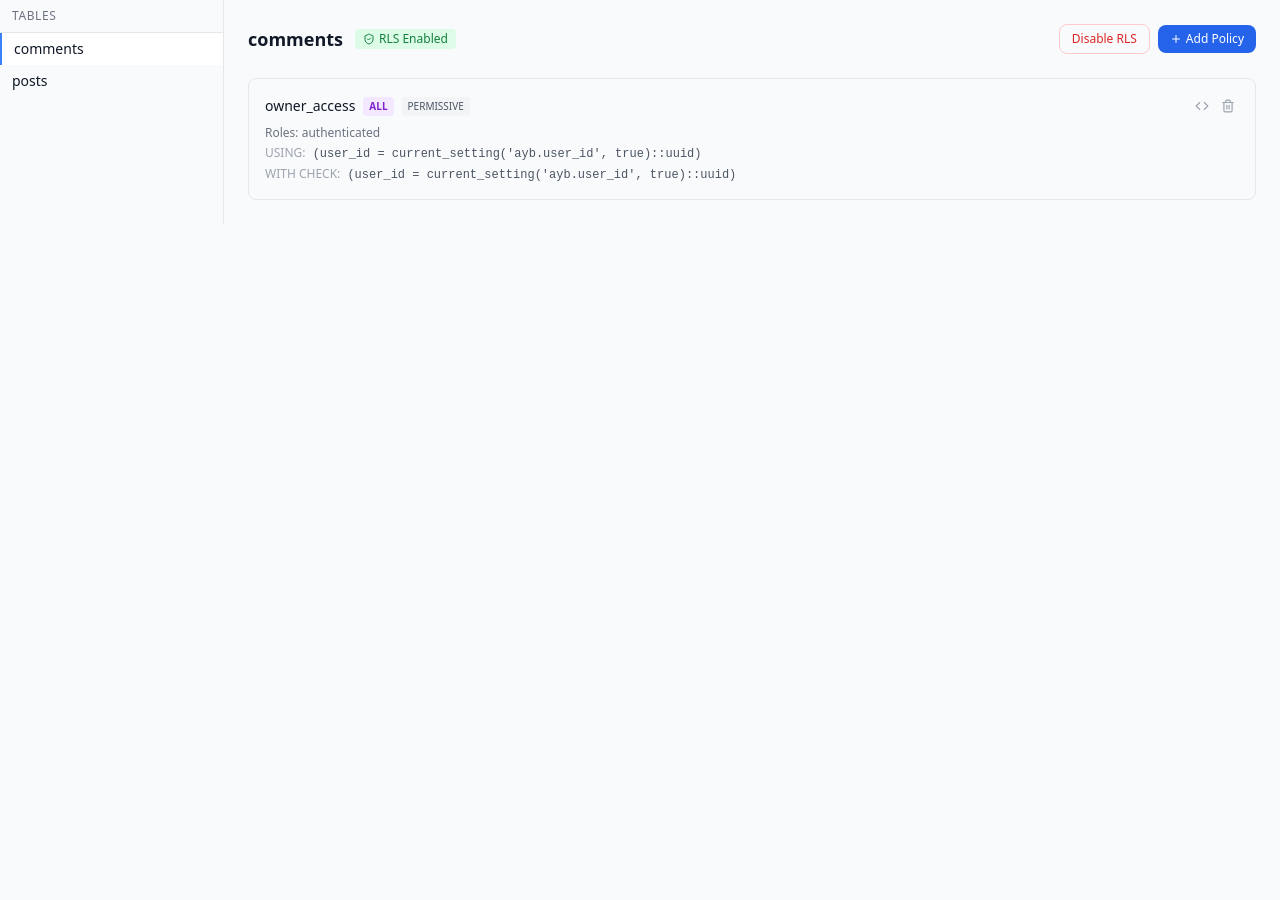
Test: RlsPolicies › opens delete confirmation when delete button clicked
This screenshot has width=1280, height=900.
Check: the text "owner_access" is shown, box x1=265 y1=96 x2=355 y2=116
Click the button titled "Delete policy" at (1228, 106), box x1=1217 y1=95 x2=1239 y2=117
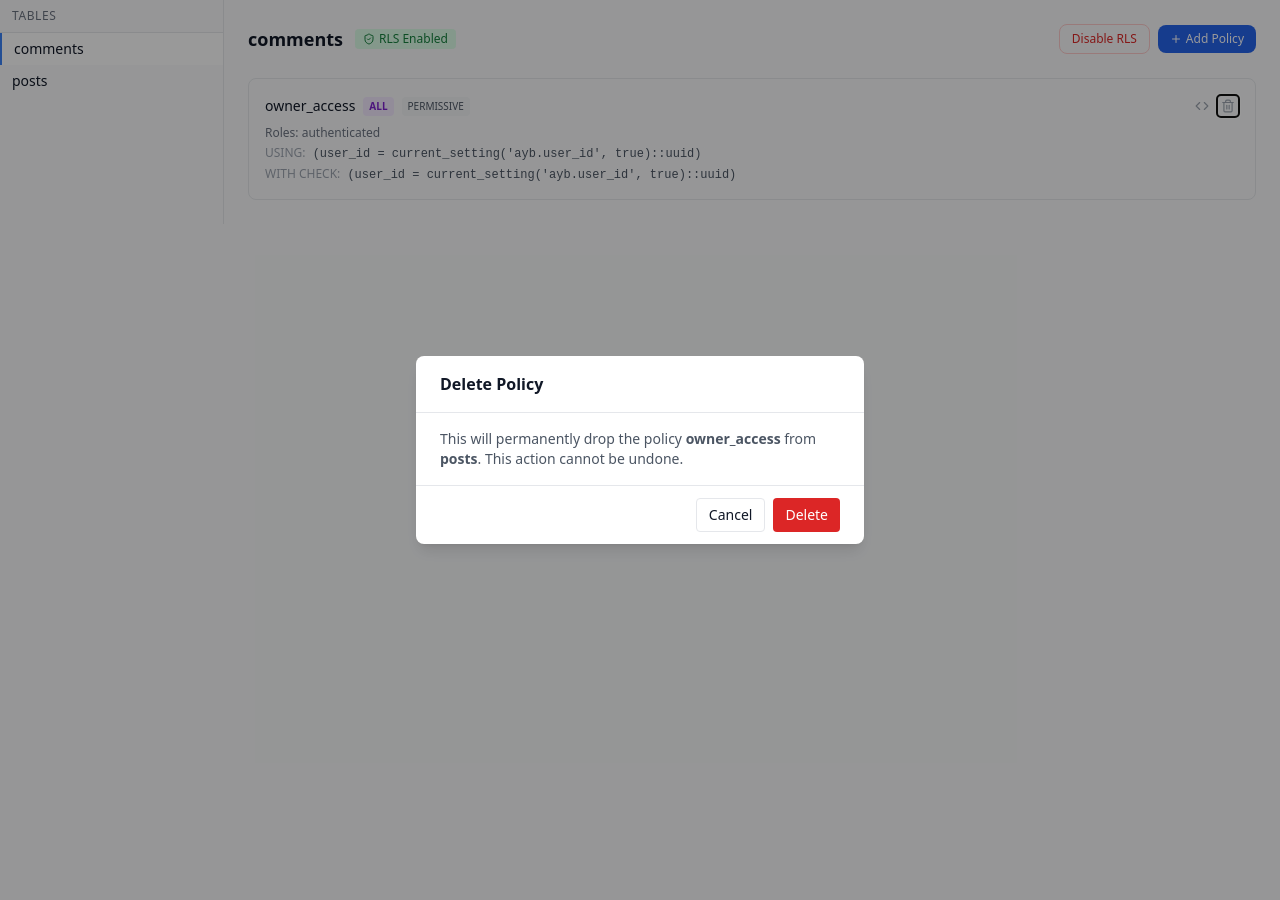
Check: the heading "Delete Policy" is shown, box x1=440 y1=373 x2=543 y2=395
Check: the text "permanently drop the policy" is shown, box x1=440 y1=429 x2=686 y2=448
